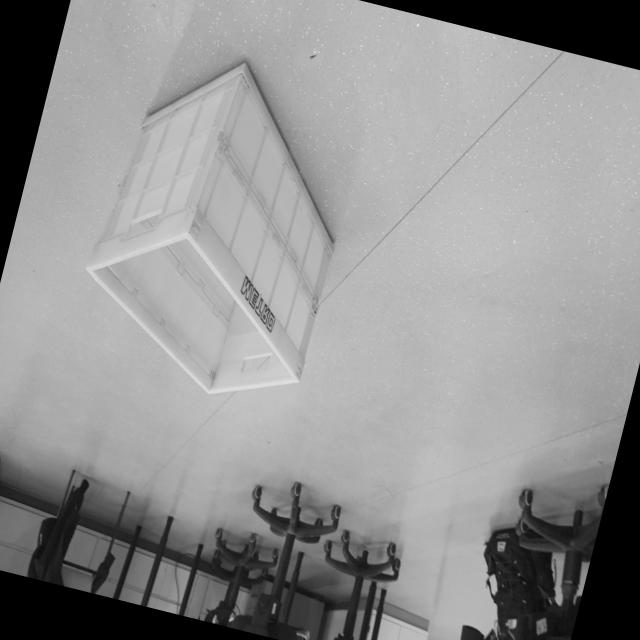box: (57, 21, 380, 427)
